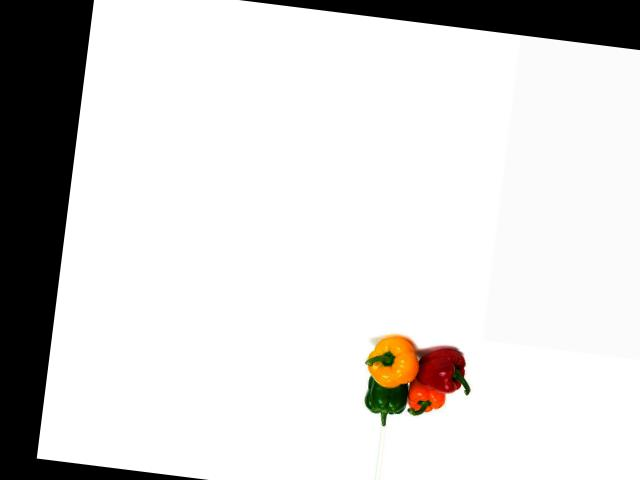bell_pepper: (359, 330, 424, 391)
